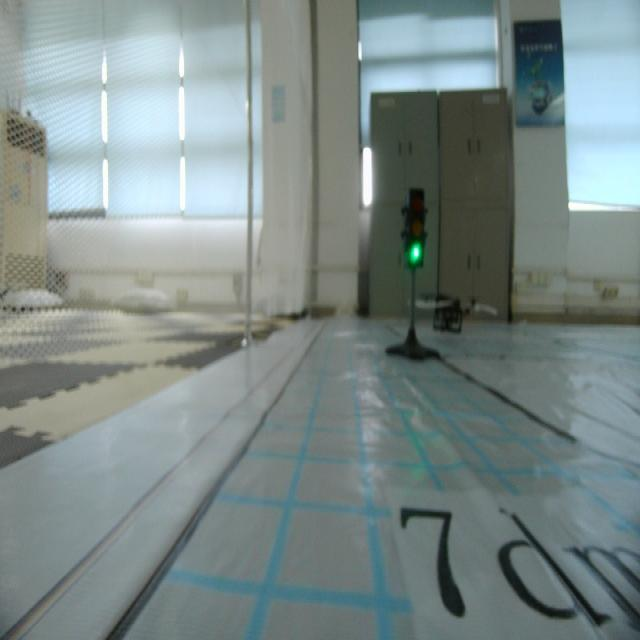green: (406, 192, 428, 263)
